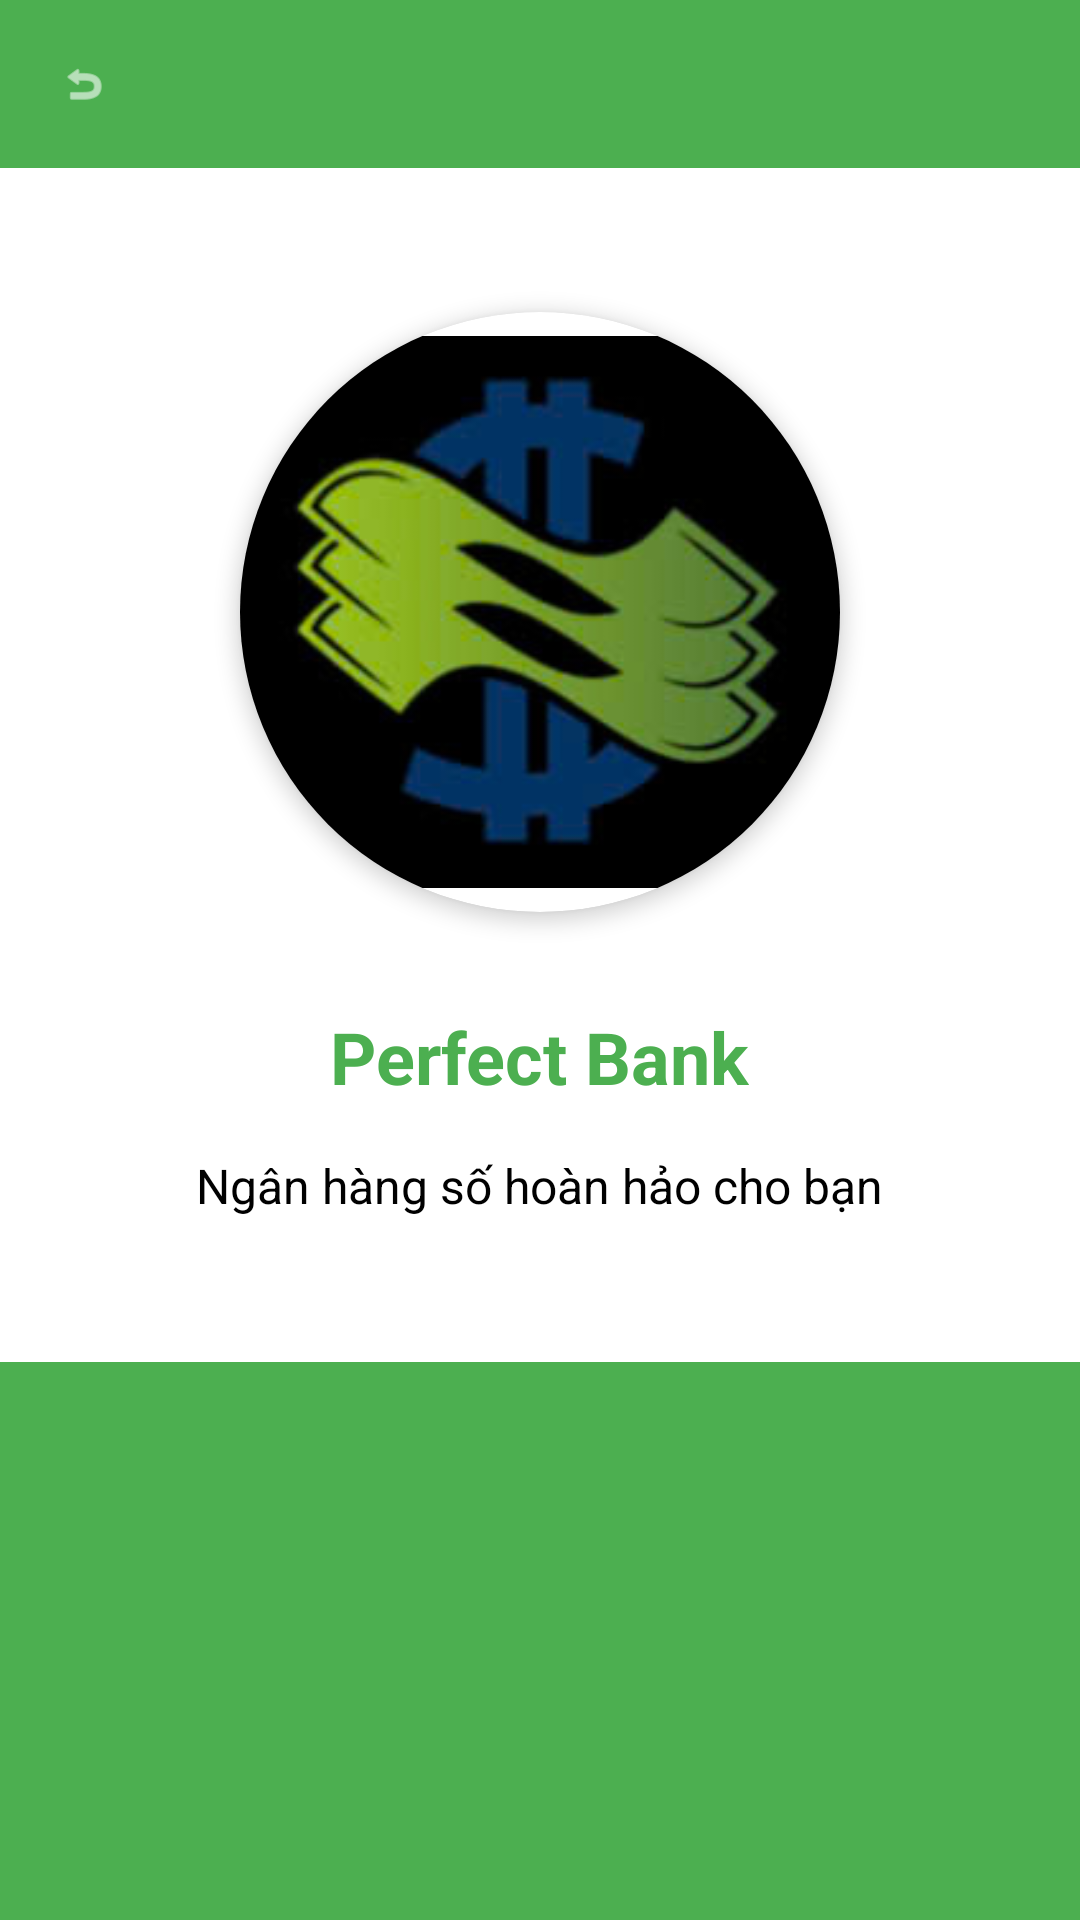

Point at icon controls on the screen. Image size 1080px x 1920px, points as (x,y).
Back: (84,84)
